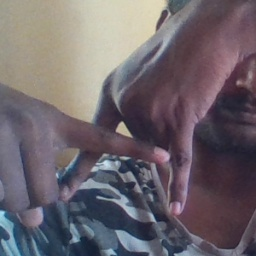H: (53, 78, 195, 218)
